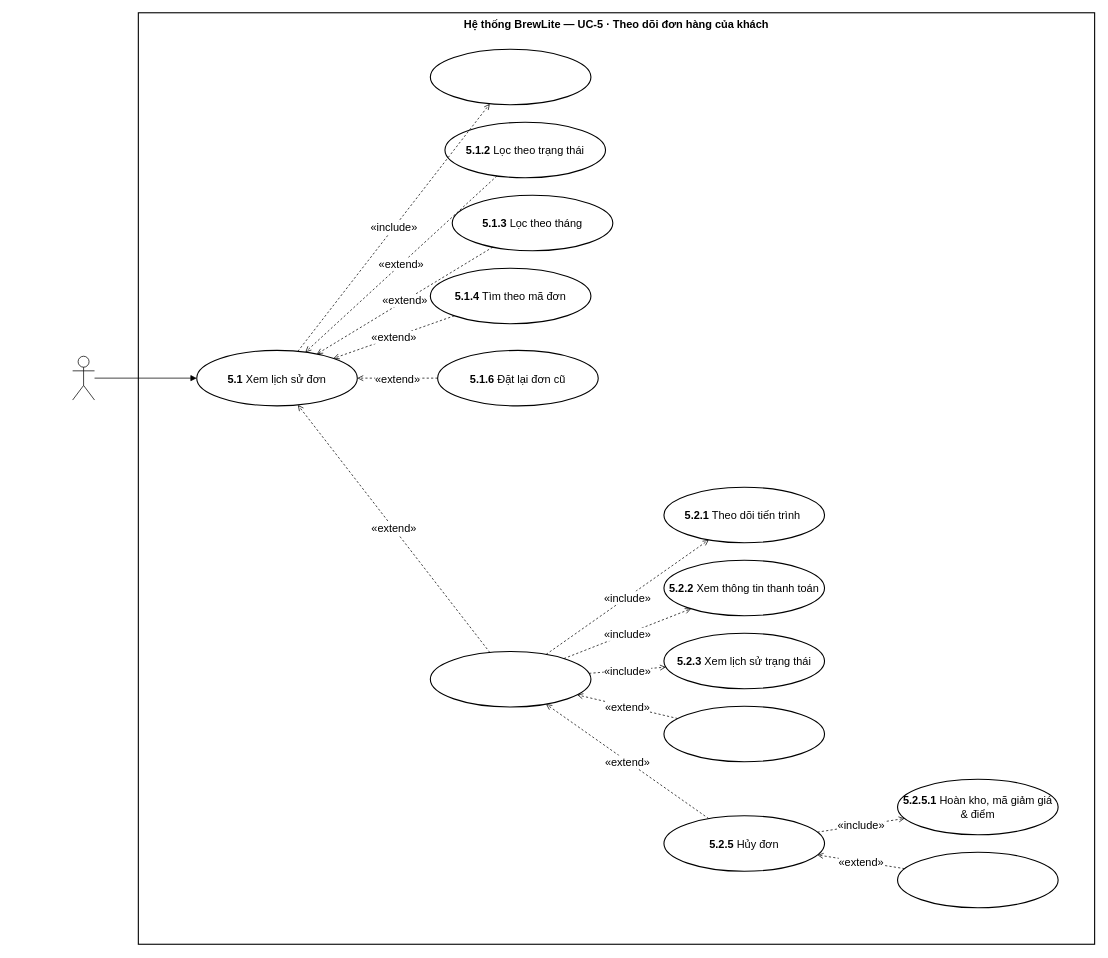
Some shapes in this 1108 by 958 pixel diagram are drawn without their labels. The shapes that lost their labels are listed below. From the top down, each one's box as (x1, y1, x2, y2) in pixels, then its label:
(429, 48, 591, 105): 5.1.1 Đăng nhập
(72, 356, 95, 400): Khách hàng
(429, 651, 591, 707): 5.2 Xem chi tiết đơn
(663, 705, 825, 762): 5.2.4 Thanh toán lại đơn chưa trả
(897, 851, 1058, 908): 5.2.5.2 Hoàn tiền (nếu đã thanh toán)
